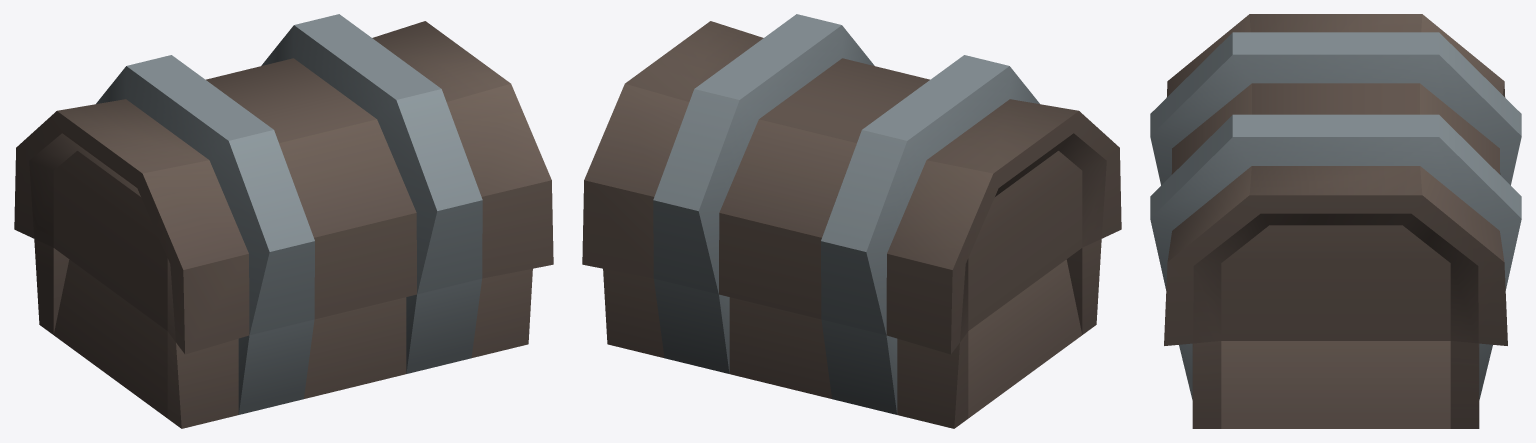
File: trunk_large_B.gltf
3 renders of one model, left to right at view 1: azimuth 30°, elevation 25°; view 2: azimuth 150°, elevation 25°; view 3: azimuth 270°, elevation 25°, orthographic.
Parts seen in each view (by area): view 1: trunk_large_B; view 2: trunk_large_B; view 3: trunk_large_B.
Boxes of the visible parts, x1=… form: trunk_large_B: x1=14, y1=14, x2=553, y2=428; trunk_large_B: x1=582, y1=14, x2=1121, y2=428; trunk_large_B: x1=1150, y1=14, x2=1521, y2=428.
Size of the model in its own units: 1.5 by 1 by 1.3.
1 material, 1 textured.
